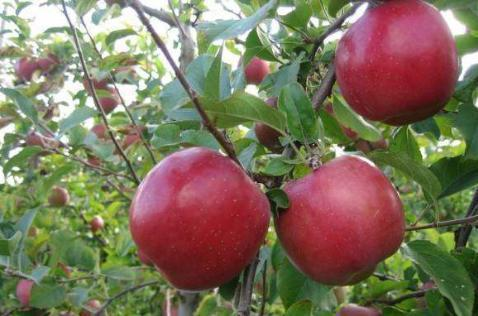apple: (125, 147, 271, 295), (275, 154, 405, 286), (334, 1, 459, 128), (245, 59, 269, 84), (46, 185, 69, 206)
